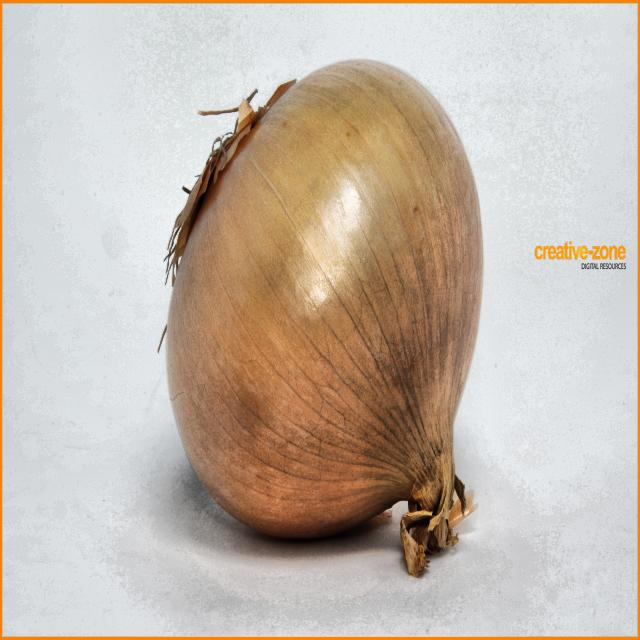onion: (73, 28, 617, 622)
